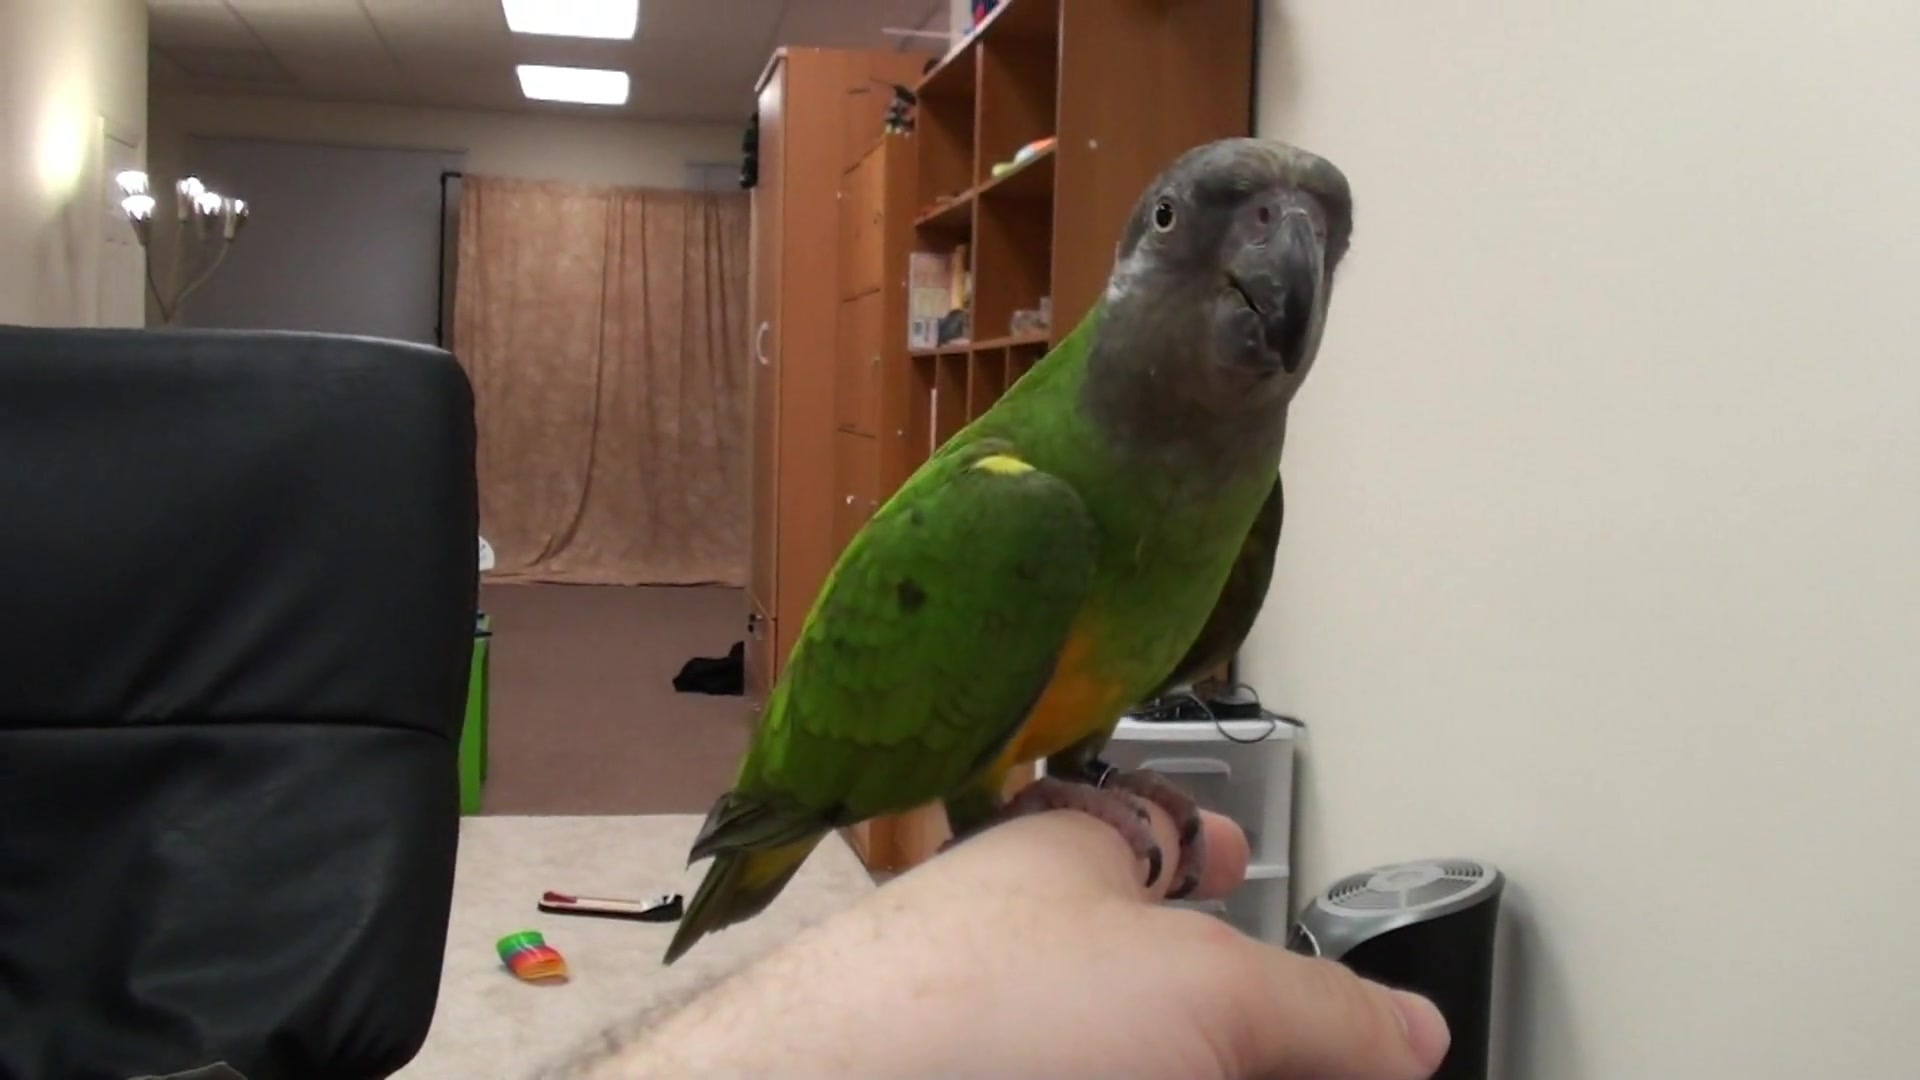bird: (655, 131, 1352, 969)
